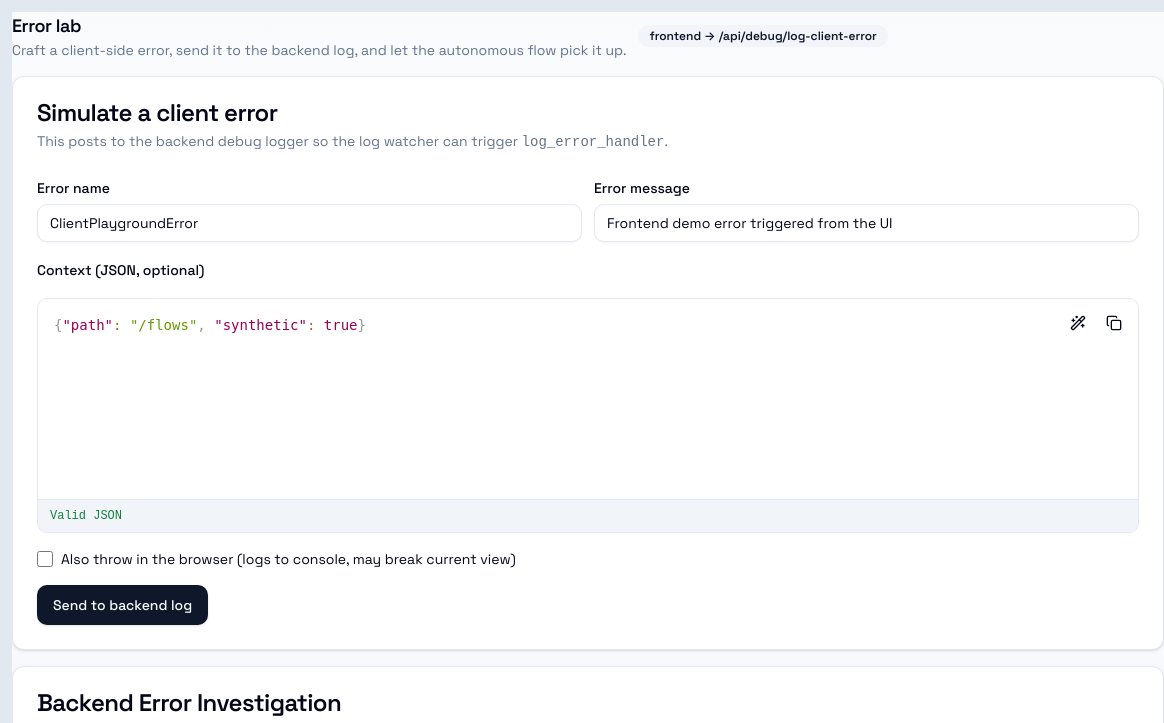
ErrorPlaygroundPage › shows a validation error when context JSON is invalid
Replace the text in the text box labelled "Context (JSON, optional)" with "not-json" at (588, 399), box [38,299,1138,499]
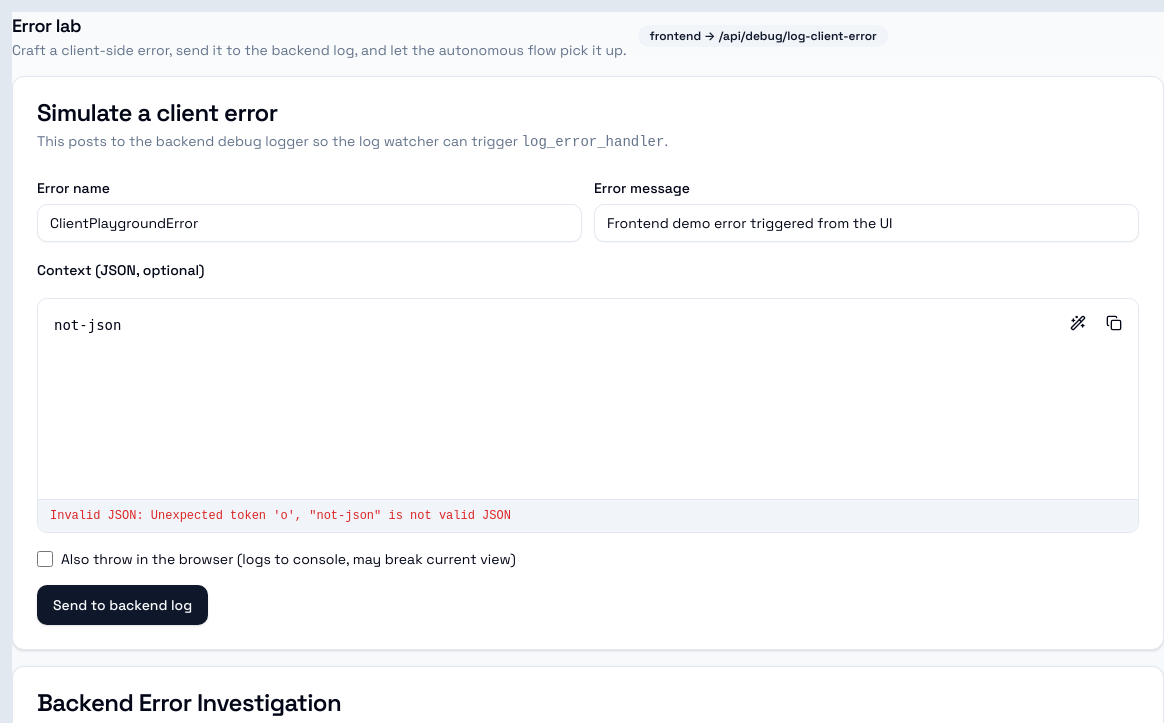
Click the button "Send to backend log".
click(123, 605)  # box [37,585,208,625]
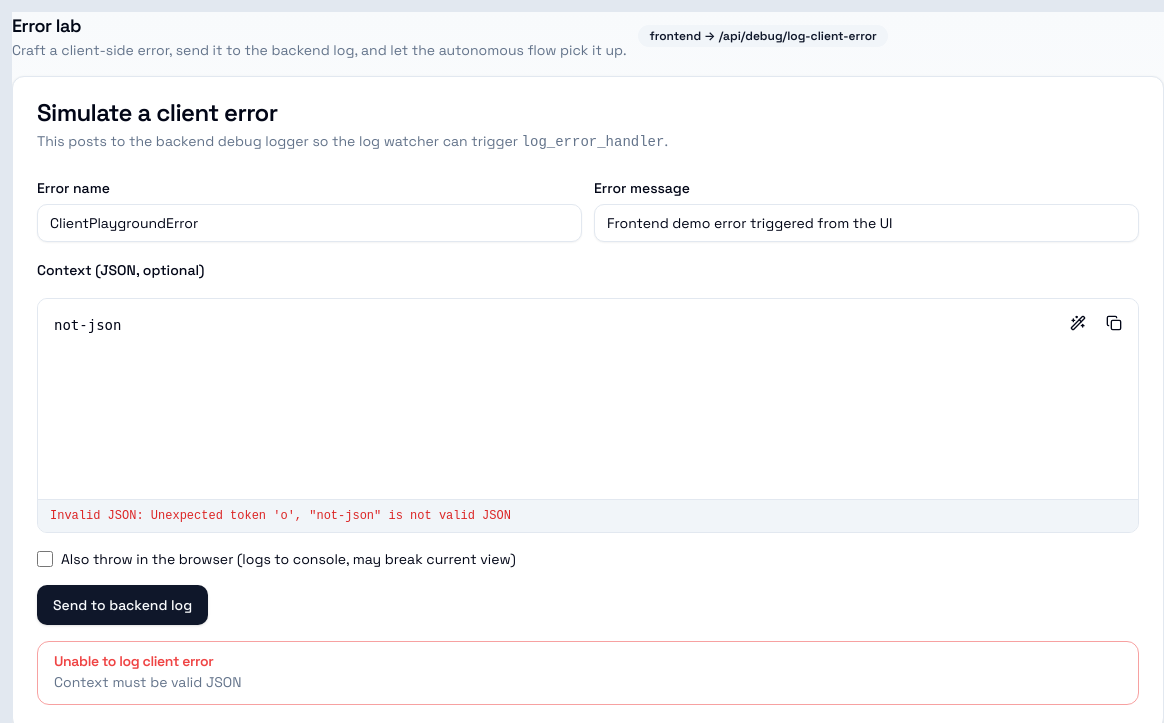
Result: the text "Context must be valid JSON" is shown at [54,673,242,691]
